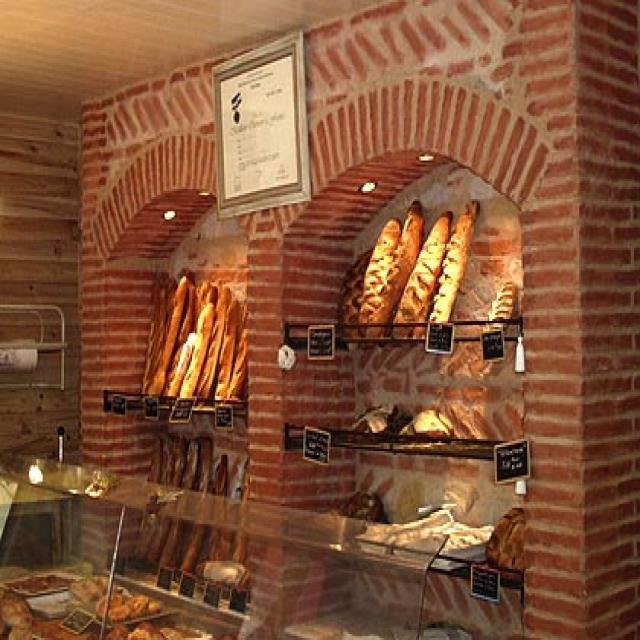French bread: (140, 266, 244, 402), (130, 437, 224, 581), (389, 207, 448, 337), (428, 197, 475, 333), (358, 215, 398, 333)
arch: (73, 75, 585, 638)
ceiling beam: (2, 0, 387, 116)
lamp crop: (357, 179, 375, 191), (414, 150, 433, 161), (162, 207, 172, 221)
loaf occluded: (396, 404, 456, 445), (344, 402, 395, 443)
paper towel dispense: (0, 337, 35, 370)
price: (471, 565, 497, 601), (482, 329, 501, 360)
shelf crop: (285, 425, 517, 463), (286, 319, 518, 349), (102, 388, 244, 414)
showcase occluded: (2, 449, 446, 638)
text: (210, 30, 306, 217)
wall clock: (76, 0, 585, 638), (574, 0, 637, 638), (2, 108, 78, 579)
